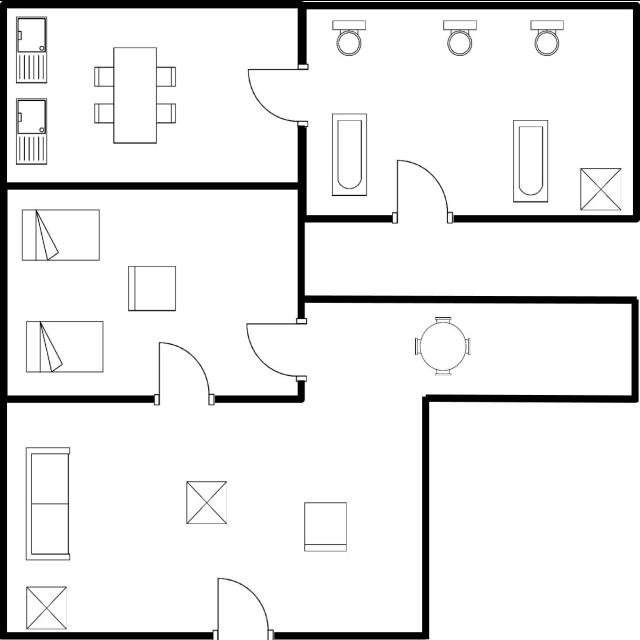bed: (17, 202, 105, 266), (21, 316, 109, 378)
coffee_table: (180, 474, 232, 530), (578, 160, 626, 213), (23, 582, 71, 632)
dining_table: (89, 38, 179, 148)
large_sink: (438, 15, 480, 60), (526, 16, 568, 61), (328, 16, 370, 59)
large_sofa: (20, 442, 76, 564)
round_table: (410, 311, 476, 381)
sink: (11, 92, 53, 168), (12, 10, 54, 86)
small_sofa: (122, 259, 180, 315), (299, 496, 351, 558)
tub: (328, 106, 373, 200), (508, 111, 552, 206)
